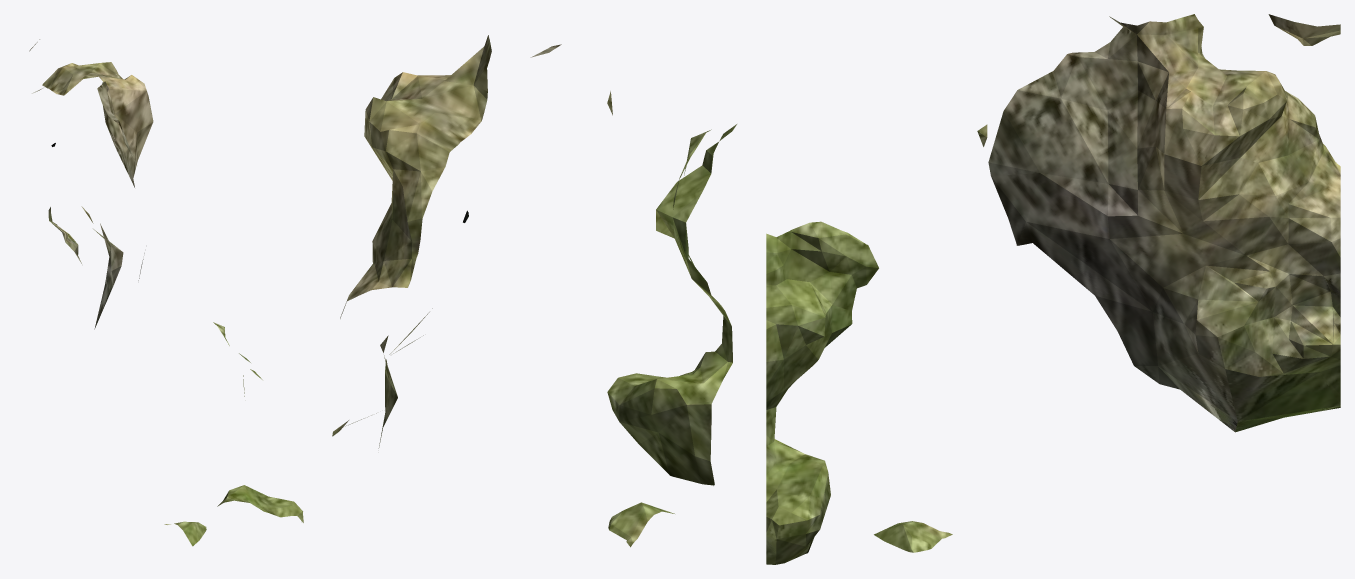
3 renders of one model, left to right at view 1: azimuth 30°, elevation 25°; view 2: azimuth 150°, elevation 25°; view 3: azimuth 270°, elevation 25°, orthographic. The views are drawn at different scales.
Bounding box in the file's own units: 0.5776 × 2.95 × 2.95.
Materials: 2 (2 with a texture image).
